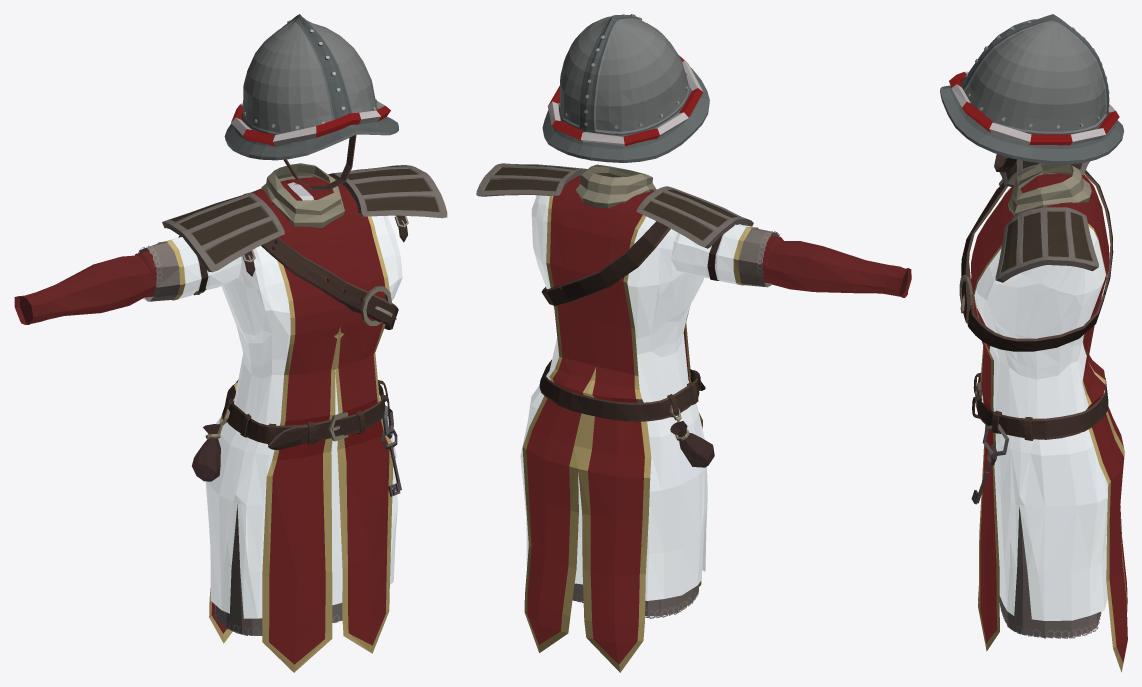
The model's file is gateGuardFemale.glb.
3 renders of one model, left to right at view 1: azimuth 30°, elevation 25°; view 2: azimuth 150°, elevation 25°; view 3: azimuth 270°, elevation 25°, orthographic. The views are drawn at different scales.
Parts seen in each view (by area): view 1: gateGuardBanner.001, gateGuardBody, gateGuardDetails.001, gateGuardHelmet, gateGuardLowerArm, gateGuardUpperArm; view 2: gateGuardBanner.001, gateGuardBody, gateGuardHelmet, gateGuardDetails.001, gateGuardLowerArm, gateGuardUpperArm; view 3: gateGuardBody, gateGuardHelmet, gateGuardBanner.001, gateGuardDetails.001, key.001.
Boxes of the visible parts, x1,y1,x2,y2 form: gateGuardBanner.001: (209, 176, 393, 672); gateGuardBody: (205, 163, 402, 635); gateGuardDetails.001: (162, 165, 447, 481); gateGuardHelmet: (224, 14, 398, 190); gateGuardLowerArm: (14, 255, 155, 324); gateGuardUpperArm: (135, 235, 241, 301); gateGuardBanner.001: (522, 175, 702, 672); gateGuardBody: (520, 164, 707, 618); gateGuardHelmet: (542, 14, 709, 162); gateGuardDetails.001: (476, 163, 753, 467); gateGuardLowerArm: (766, 241, 911, 297); gateGuardUpperArm: (670, 224, 783, 287); gateGuardBody: (974, 164, 1108, 638); gateGuardHelmet: (940, 14, 1123, 172); gateGuardBanner.001: (971, 173, 1127, 672); gateGuardDetails.001: (959, 157, 1113, 456); key.001: (971, 445, 997, 504).
Bounding box in the file's own units: 1.09 × 1.62 × 0.4309.
